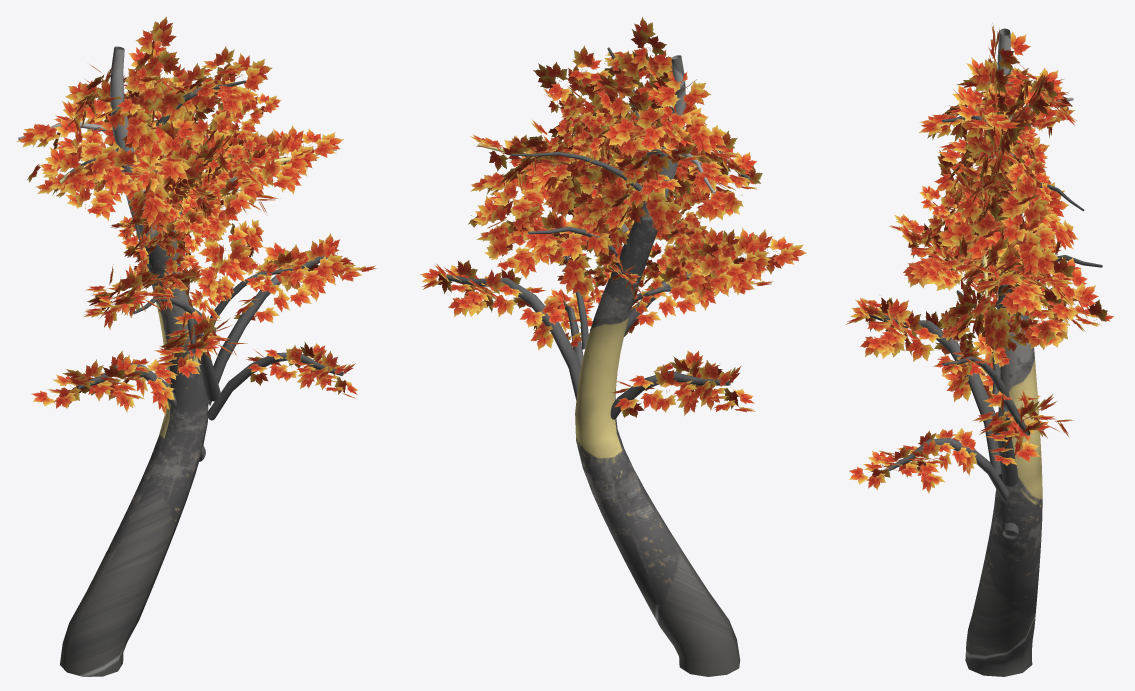
File: arbre_orange_3.fbx
3 views of the same model, side by side, from view 1: azimuth 30°, elevation 25°; view 2: azimuth 150°, elevation 25°; view 3: azimuth 270°, elevation 25° (orthographic). The views are drawn at different scales.
Visible parts, largest first — view 1: arbre_orange_3_plane; view 2: arbre_orange_3_plane; view 3: arbre_orange_3_plane.
Part boxes in pixels (x1,y1,x2,y2): arbre_orange_3_plane: [16, 16, 377, 676]; arbre_orange_3_plane: [420, 17, 806, 676]; arbre_orange_3_plane: [846, 23, 1114, 676].
Bounding box in the file's own units: 23.13 × 40.81 × 15.26.
